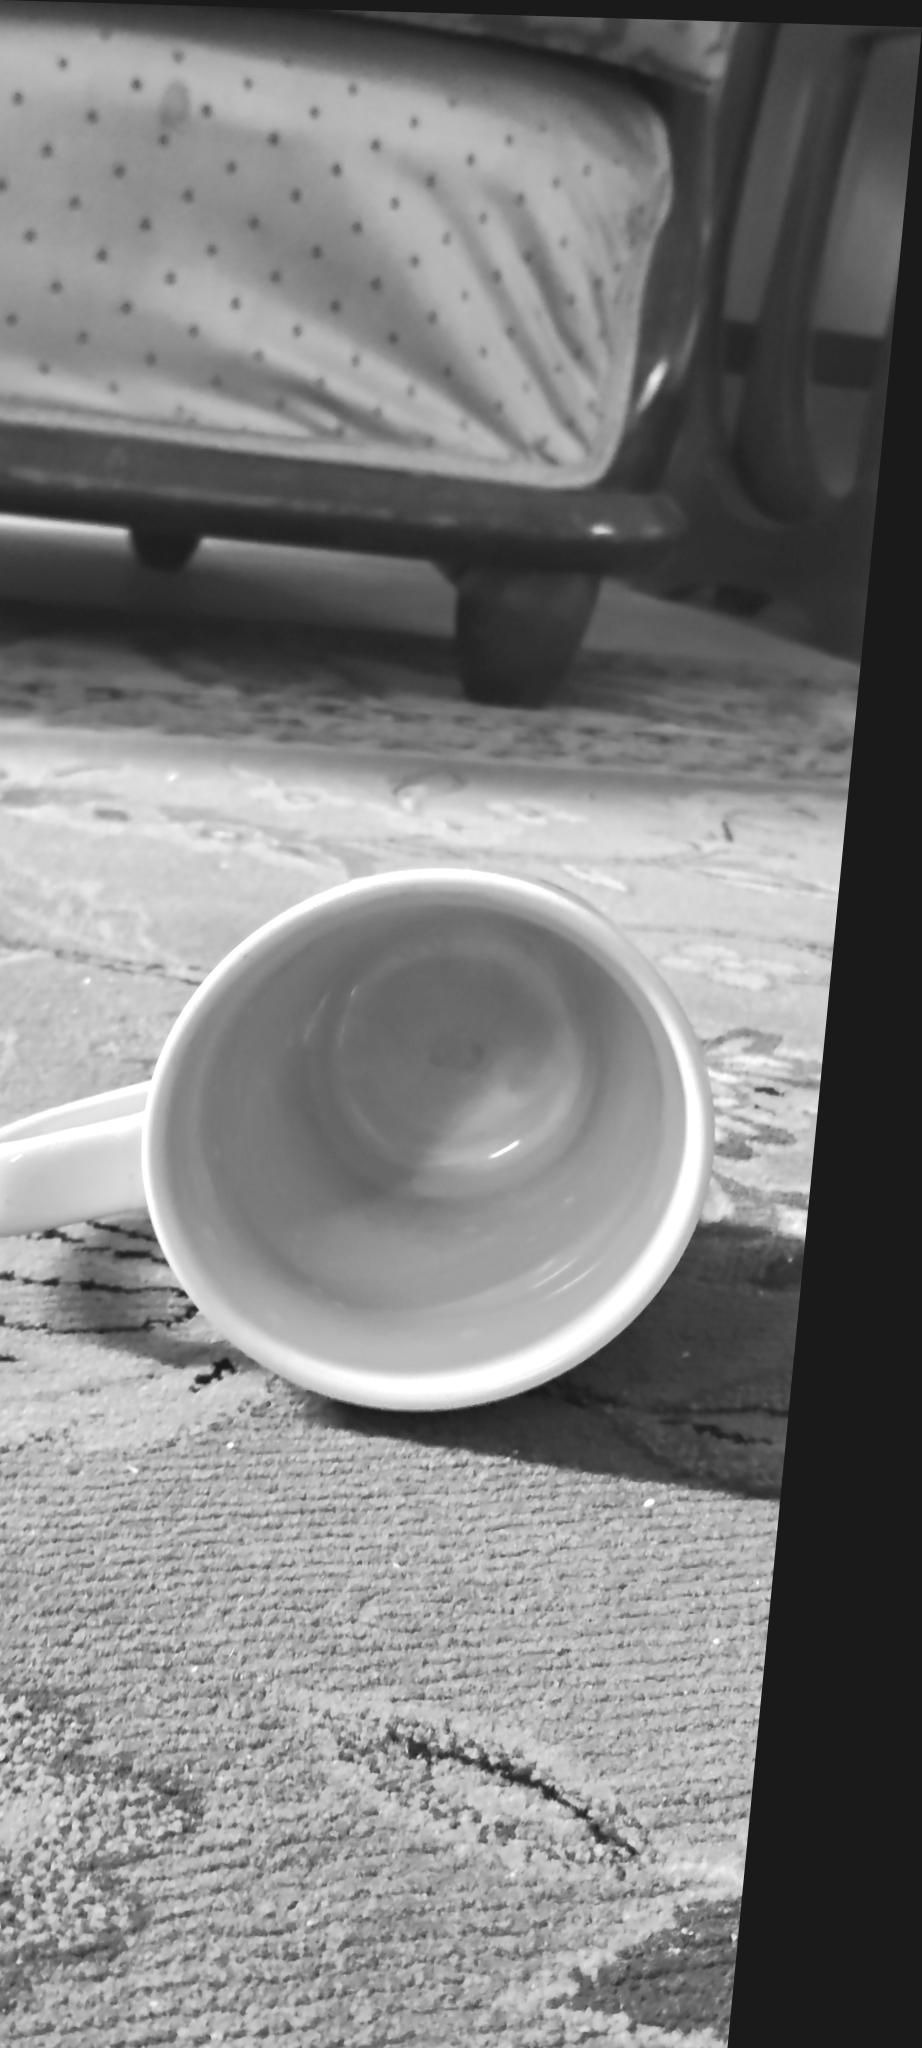Mug: (0, 854, 738, 1426)
